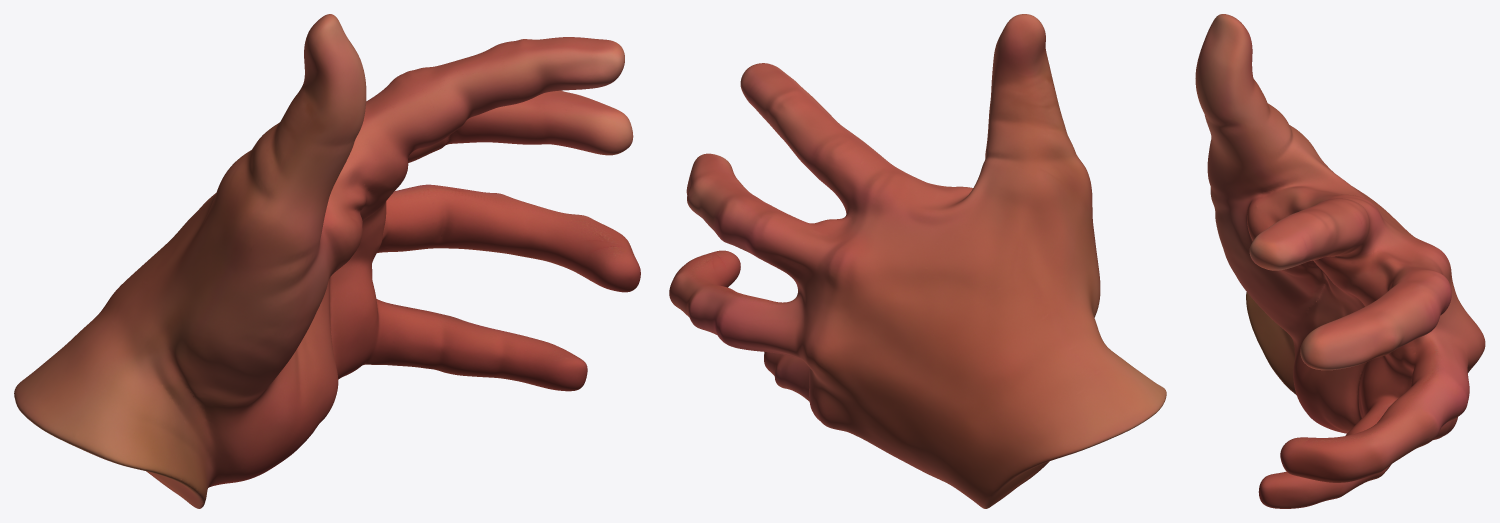
3 renders of one model, left to right at view 1: azimuth 30°, elevation 25°; view 2: azimuth 150°, elevation 25°; view 3: azimuth 270°, elevation 25°, orthographic. The views are drawn at different scales.
Size of the model in its own units: 1.9 by 1.6 by 0.9697.
1 material, 1 textured.
